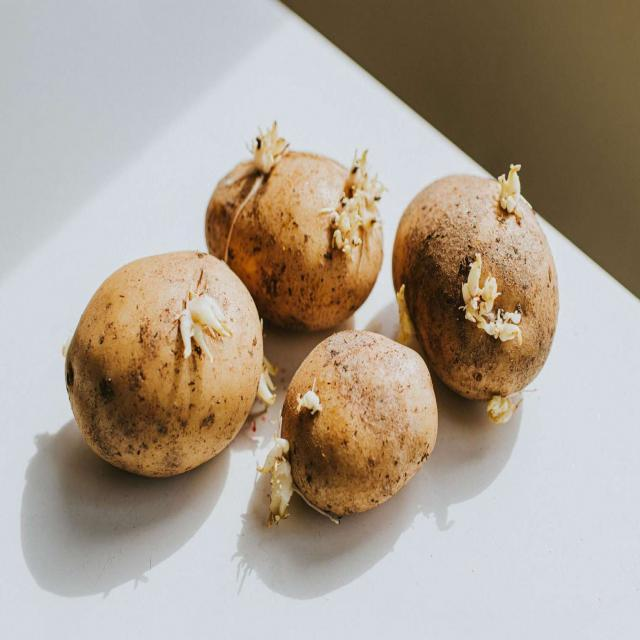potato: (66, 249, 265, 477), (393, 177, 560, 403), (207, 152, 384, 327), (281, 333, 436, 523)
